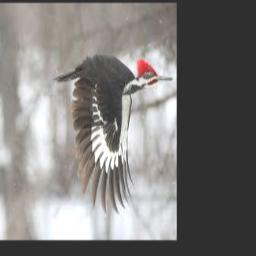Woodpecker: (53, 56, 174, 211)
